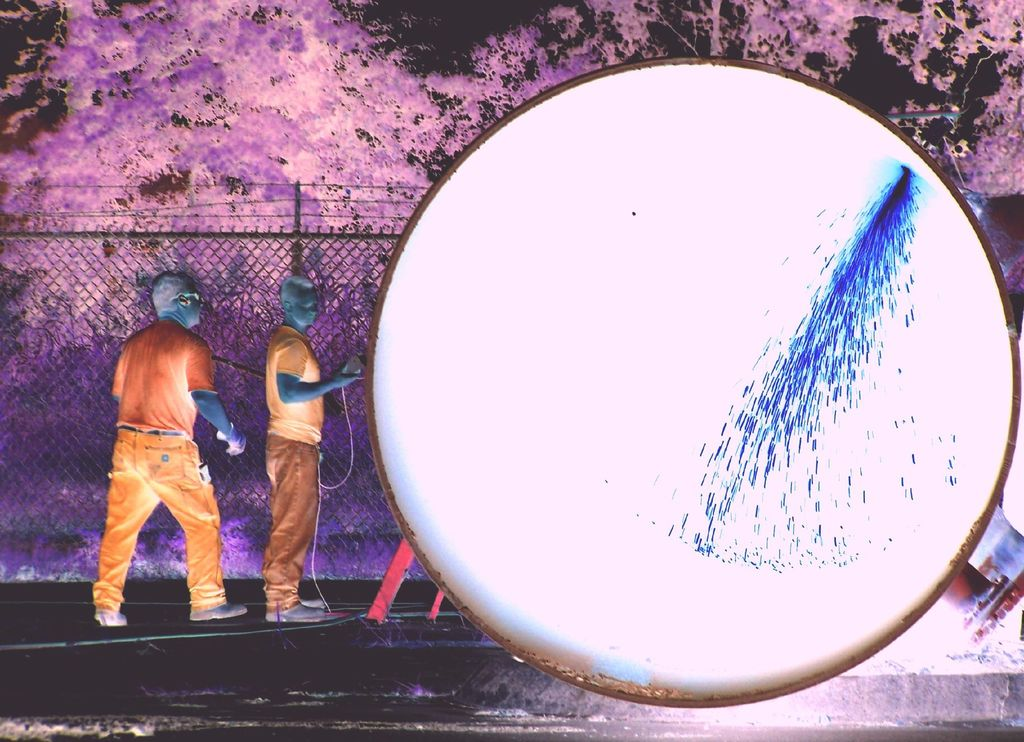plate: (369, 56, 1023, 699)
